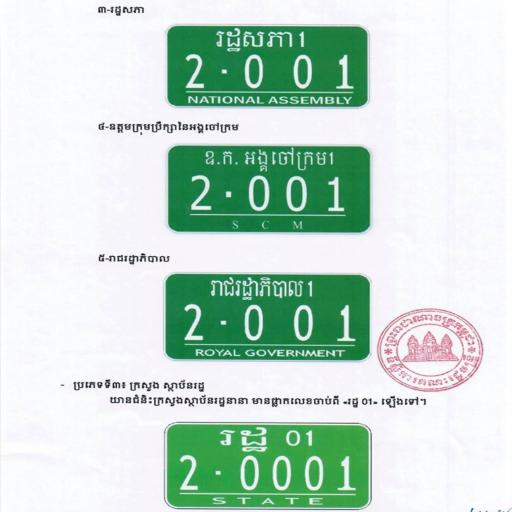Plate Number: (168, 423, 370, 512), (166, 274, 372, 361), (169, 22, 372, 109), (171, 145, 373, 232)
